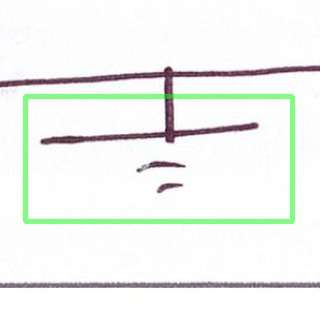Earth Electrode: (23, 97, 294, 221)
